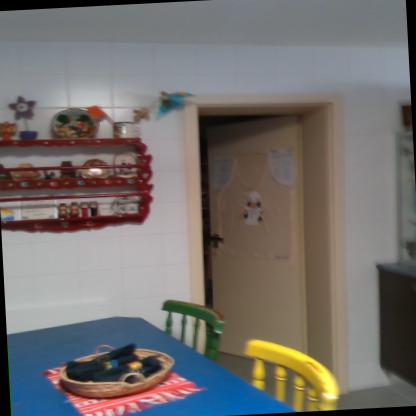semi: (174, 75, 363, 392)
